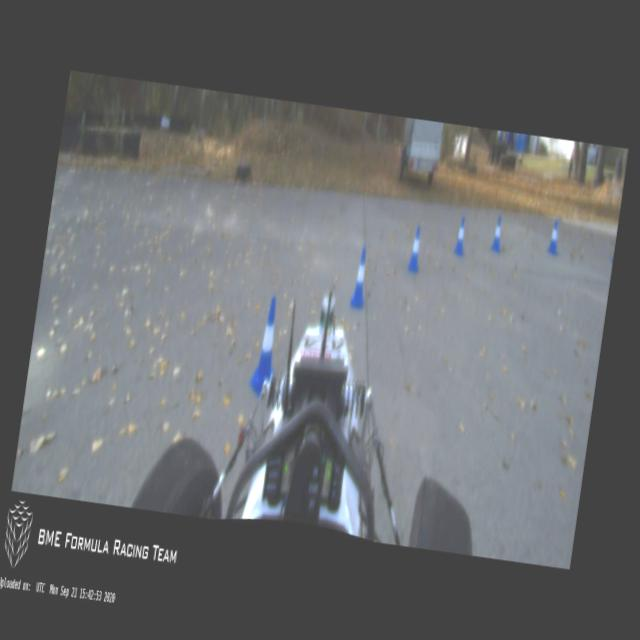blue_cone: (248, 294, 284, 398), (349, 246, 371, 307), (406, 225, 424, 274), (454, 216, 469, 256), (546, 219, 562, 256), (490, 216, 505, 250)
